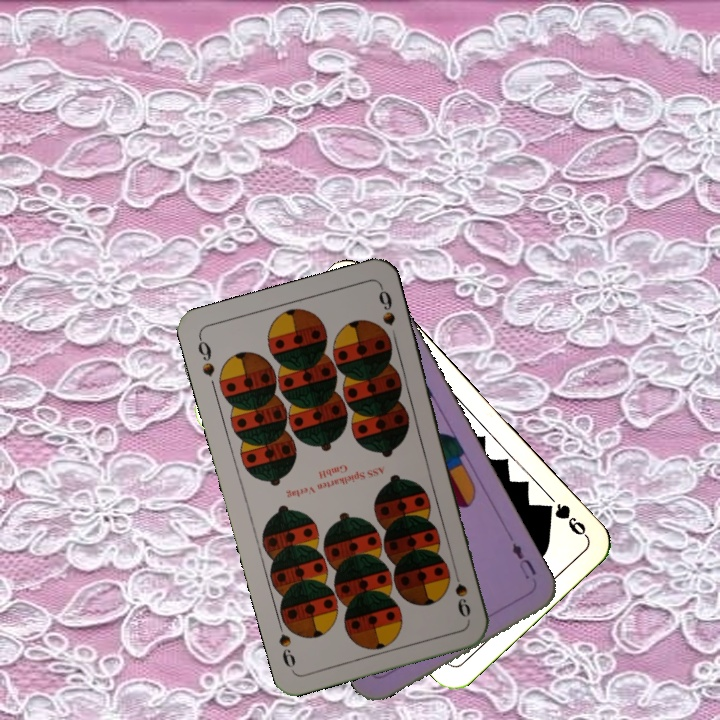EU: (508, 539, 539, 582)
G9: (538, 498, 590, 540)
S9: (449, 563, 473, 620), (193, 333, 218, 379)
